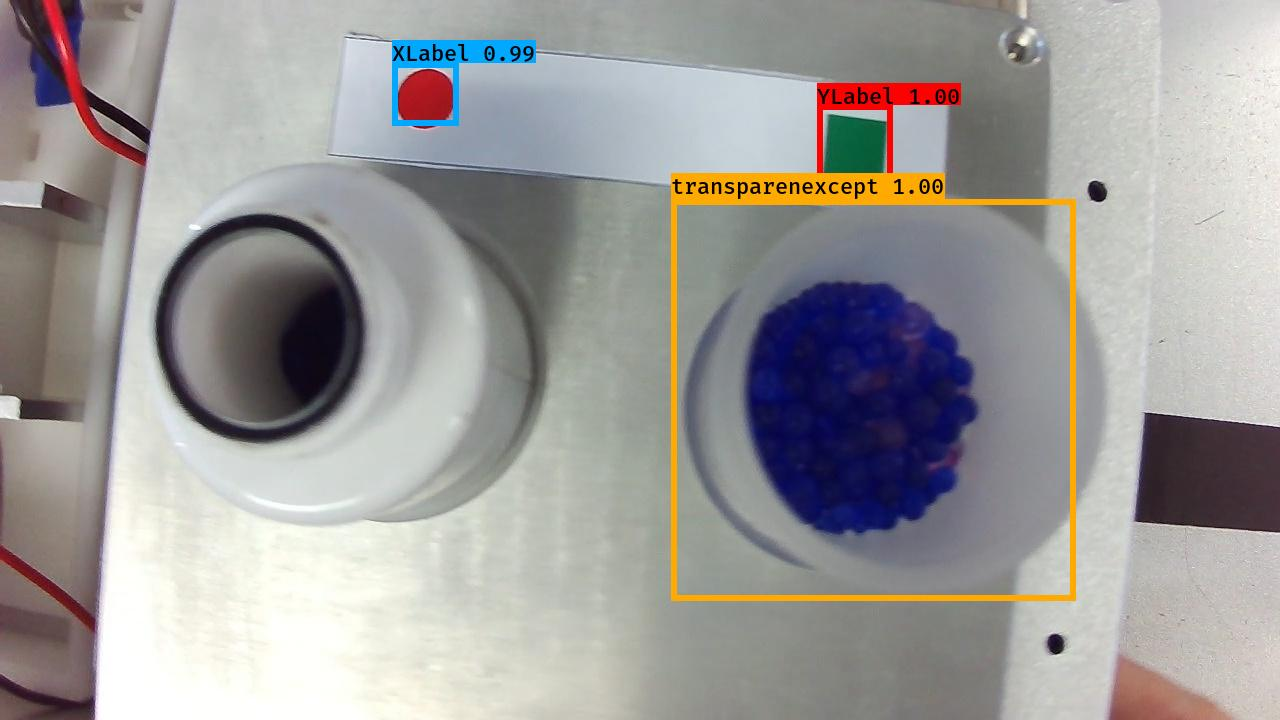XLabel: (393, 64, 460, 131)
YLabel: (820, 109, 891, 182)
transparenexcept: (677, 188, 1123, 597)
whiteexcept: (128, 162, 558, 531)
